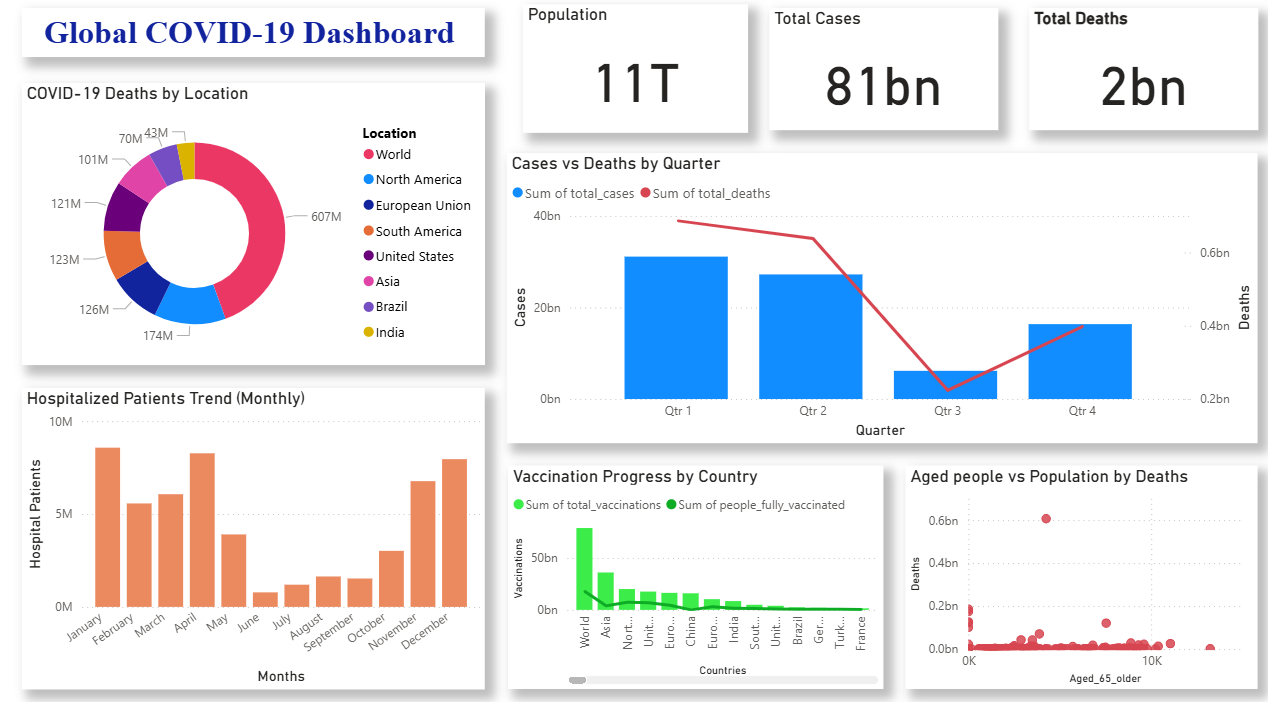

The dashboard page shown, as its layout file describes it:
{"tool":"powerbi","page":{"name":"Page 1","canvas":[1280,720],"ordinal":0},"visuals":[{"type":"card","title":"Total Deaths","fields":{"Values":["Sum(covid_cleaned.total_deaths)"]},"box":[1031.2,19.9,227.6,121.9],"z":0},{"type":"card","title":"Population","fields":{"Values":["Sum(covid_cleaned.population)"]},"box":[528,16,224,128],"z":1000},{"type":"card","title":"Total Cases","fields":{"Values":["Sum(covid_cleaned.total_cases)"]},"box":[772.5,19.9,227.6,121.9],"z":2000},{"type":"donutChart","title":"COVID-19 Deaths by Location","fields":{"Y":["Sum(covid_cleaned.total_deaths)"],"Category":["covid_cleaned.location (groups)"]},"box":[28.1,94.7,461.2,280.5],"z":3000},{"type":"lineStackedColumnComboChart","title":"Cases vs Deaths by Quarter","fields":{"Category":["covid_cleaned.date.Variation.Date Hierarchy.Quarter","covid_cleaned.date.Variation.Date Hierarchy.Month","covid_cleaned.date.Variation.Date Hierarchy.Day"],"Y":["Sum(covid_cleaned.total_cases)"],"Y2":["Sum(covid_cleaned.total_deaths)"]},"box":[511.4,164.3,747.1,288.6],"z":4000},{"type":"lineClusteredColumnComboChart","title":"Vaccination Progress by Country","fields":{"Category":["covid_cleaned.location"],"Y":["Sum(covid_cleaned.total_vaccinations)"],"Y2":["Sum(covid_cleaned.people_fully_vaccinated)"]},"box":[512,475.2,373.5,222.7],"z":5000},{"type":"lineClusteredColumnComboChart","title":"Hospitalized Patients Trend (Monthly)","fields":{"Y":["Sum(covid_cleaned.hosp_patients)"],"Category":["covid_cleaned.date.Variation.Date Hierarchy.Month"]},"box":[28.1,398,461.2,299.8],"z":6000},{"type":"scatterChart","title":"Aged people vs Population by Deaths","fields":{"Category":["covid_cleaned.population"],"X":["Sum(covid_cleaned.aged_65_older)"],"Y":["Sum(covid_cleaned.total_deaths)"]},"box":[908.3,475.2,350.7,222.7],"z":7000},{"type":"textbox","box":[28.1,19.3,461.2,49.1],"z":7001}]}

Visuals, with their boxes in screenshot pixels (x1, y1, x2, y2), scaled from the page's 1280x720 canvas onto the 1268x702 screenshot:
"Total Deaths" card: x1=1022, y1=19, x2=1247, y2=138
"Population" card: x1=523, y1=16, x2=745, y2=140
"Total Cases" card: x1=765, y1=19, x2=991, y2=138
"COVID-19 Deaths by Location" donutChart: x1=28, y1=92, x2=485, y2=366
"Cases vs Deaths by Quarter" lineStackedColumnComboChart: x1=507, y1=160, x2=1247, y2=442
"Vaccination Progress by Country" lineClusteredColumnComboChart: x1=507, y1=463, x2=877, y2=680
"Hospitalized Patients Trend (Monthly)" lineClusteredColumnComboChart: x1=28, y1=388, x2=485, y2=680
"Aged people vs Population by Deaths" scatterChart: x1=900, y1=463, x2=1247, y2=680
textbox: x1=28, y1=19, x2=485, y2=67
